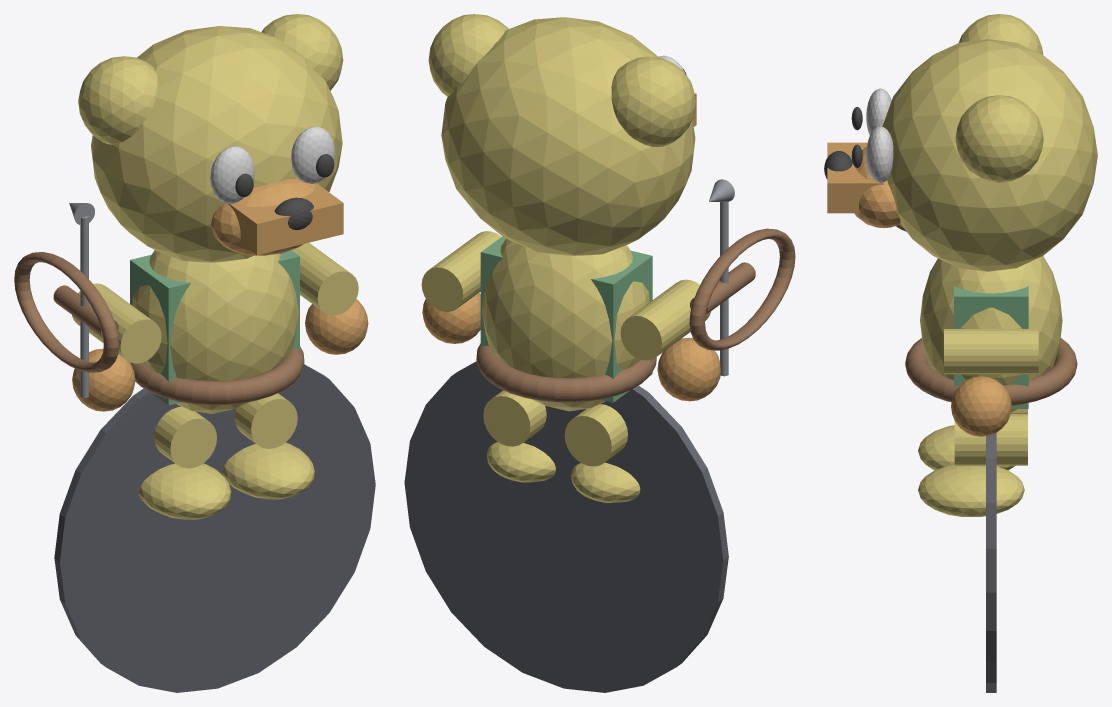
Rendered from Gabby_Prototype_V1.glb.
The picture shows the model from 3 angles, left to right: view 1: azimuth 30°, elevation 25°; view 2: azimuth 150°, elevation 25°; view 3: azimuth 270°, elevation 25°; orthographic projection. The views are drawn at different scales.
Parts seen in each view (by area): view 1: Base, Head, Body, Ear_-1, BowArc, Belt, Beak, Foot_-1, Foot_1, Tunic, Ear_1, Arm_1 (+11 smaller); view 2: Base, Head, Body, Ear_-1, Belt, BowArc, Ear_1, Arm_-1, Tunic, Arm_1, Hand_-1, Leg_-1 (+6 smaller); view 3: Head, Body, Ear_1, Arm_1, Foot_1, Belt, Hand_1, Base, Leg_1, Tunic, Beak, Ear_-1 (+5 smaller).
Part boxes in pixels (<box>): Base: <box>54,364,375,692</box>; Head: <box>91,26,342,262</box>; Body: <box>132,250,298,413</box>; Ear_-1: <box>78,56,158,144</box>; BowArc: <box>14,252,119,372</box>; Belt: <box>129,346,304,405</box>; Beak: <box>228,183,343,255</box>; Foot_-1: <box>138,463,231,519</box>; Foot_1: <box>222,442,314,499</box>; Tunic: <box>130,250,299,405</box>; Ear_1: <box>261,14,343,90</box>; Arm_1: <box>292,242,358,315</box>; Base: <box>404,361,728,692</box>; Head: <box>441,17,695,255</box>; Body: <box>482,239,649,411</box>; Ear_-1: <box>611,56,695,146</box>; Belt: <box>476,343,656,402</box>; BowArc: <box>689,228,795,350</box>; Ear_1: <box>428,14,508,96</box>; Arm_-1: <box>620,279,710,360</box>; Tunic: <box>480,236,652,402</box>; Arm_1: <box>421,231,501,311</box>; Hand_-1: <box>657,337,720,401</box>; Leg_-1: <box>564,404,627,466</box>; Head: <box>882,39,1097,271</box>; Body: <box>920,256,1062,412</box>; Ear_1: <box>955,95,1043,182</box>; Arm_1: <box>944,329,1038,374</box>; Foot_1: <box>918,464,1024,516</box>; Belt: <box>905,338,1077,405</box>; Hand_1: <box>951,376,1011,436</box>; Base: <box>986,433,996,692</box>; Leg_1: <box>954,414,1027,465</box>; Tunic: <box>954,286,1028,408</box>; Beak: <box>827,142,883,213</box>; Ear_-1: <box>958,14,1043,54</box>.
Bounding box in the file's own units: 2.18 × 4.17 × 1.65.
